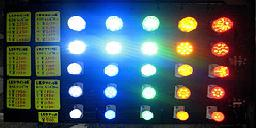LED: (208, 14, 236, 40), (101, 84, 131, 100), (139, 82, 164, 100), (178, 15, 199, 35), (68, 14, 90, 33), (142, 41, 164, 59), (210, 65, 234, 81), (174, 107, 195, 123)
